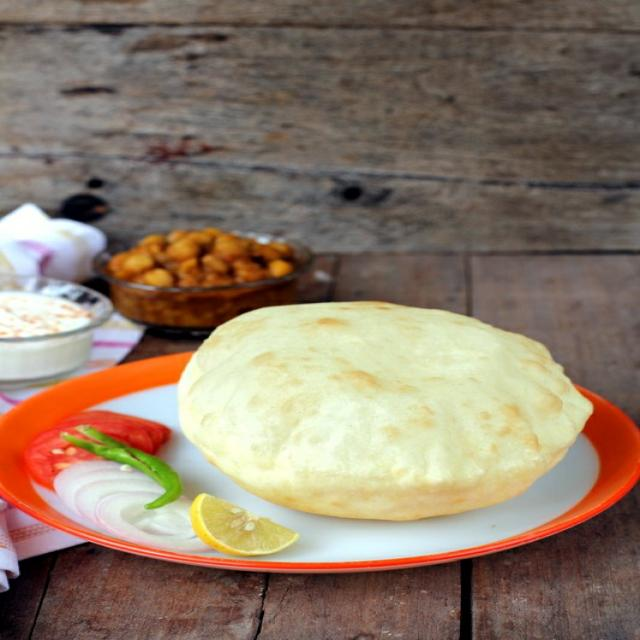Bhatura: (179, 299, 595, 519)
Chole: (104, 222, 301, 292)
